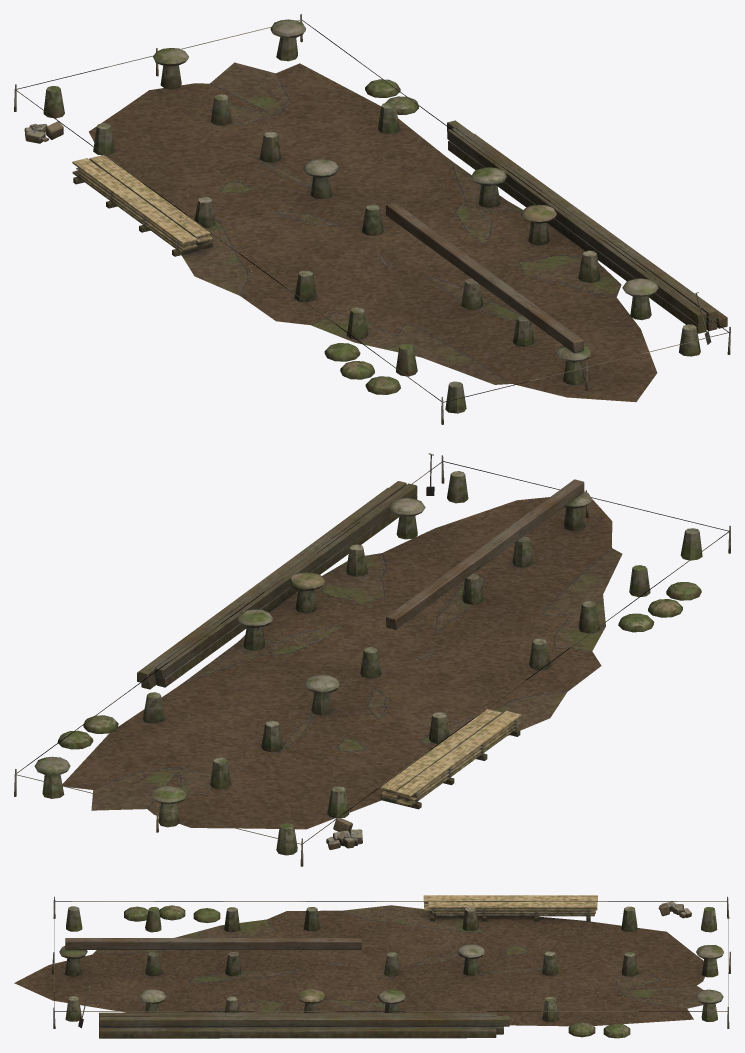
Rendered from granary_build1.glb.
3 views of the same model, one above another, from view 1: azimuth 30°, elevation 25°; view 2: azimuth 150°, elevation 25°; view 3: azimuth 270°, elevation 25° (orthographic). The views are drawn at different scales.
Visible parts, largest first — view 1: granary_build1_LOD0; view 2: granary_build1_LOD0; view 3: granary_build1_LOD0.
Part boxes in pixels (x1,y1,x2,y2): granary_build1_LOD0: (14,14,730,424); granary_build1_LOD0: (14,453,730,866); granary_build1_LOD0: (14,895,730,1038).
Size of what is drawn, in the model's own units: 9.97 by 1.32 by 22.56.
1 material, 1 textured.
